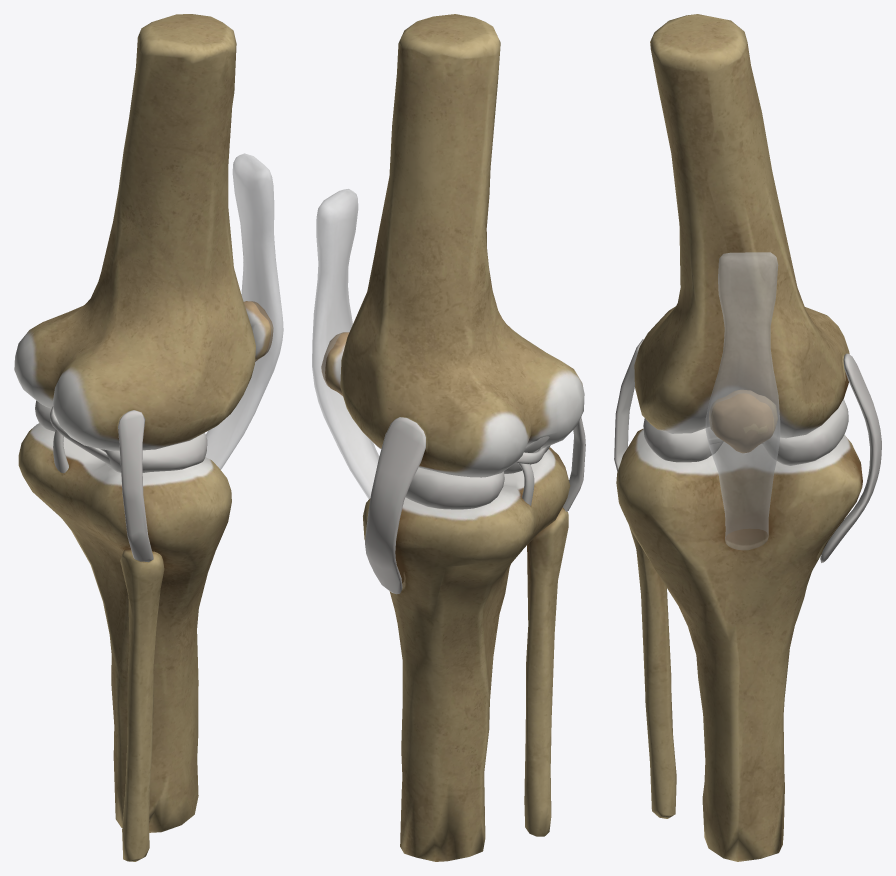
3 renders of one model, left to right at view 1: azimuth 30°, elevation 25°; view 2: azimuth 150°, elevation 25°; view 3: azimuth 270°, elevation 25°, orthographic. The views are drawn at different scales.
Parts seen in each view (by area): view 1: Bone_Low, Transparenty_Low, Mash_Low; view 2: Bone_Low, Mash_Low, Transparenty_Low; view 3: Bone_Low, Transparenty_Low, Mash_Low.
Boxes of the visible parts, left/top/right/bottom form: Bone_Low: left=14, top=14, right=255, bottom=861; Transparenty_Low: left=205, top=153, right=283, bottom=469; Mash_Low: left=35, top=301, right=273, bottom=562; Bone_Low: left=340, top=14, right=584, bottom=861; Mash_Low: left=321, top=332, right=585, bottom=594; Transparenty_Low: left=312, top=189, right=379, bottom=498; Bone_Low: left=616, top=14, right=862, bottom=861; Transparenty_Low: left=705, top=252, right=780, bottom=549; Mash_Low: left=614, top=339, right=881, bottom=562.
Size of the model in its own units: 0.0457 by 0.1498 by 0.0443.
3 materials, 3 textured.
